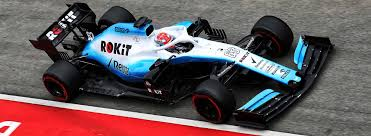FormulaOneCar: (28, 1, 335, 130)
